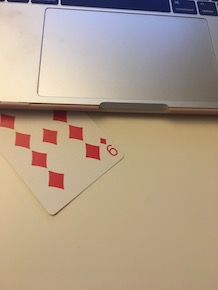NineOfDiamonds: (1, 94, 128, 219)
